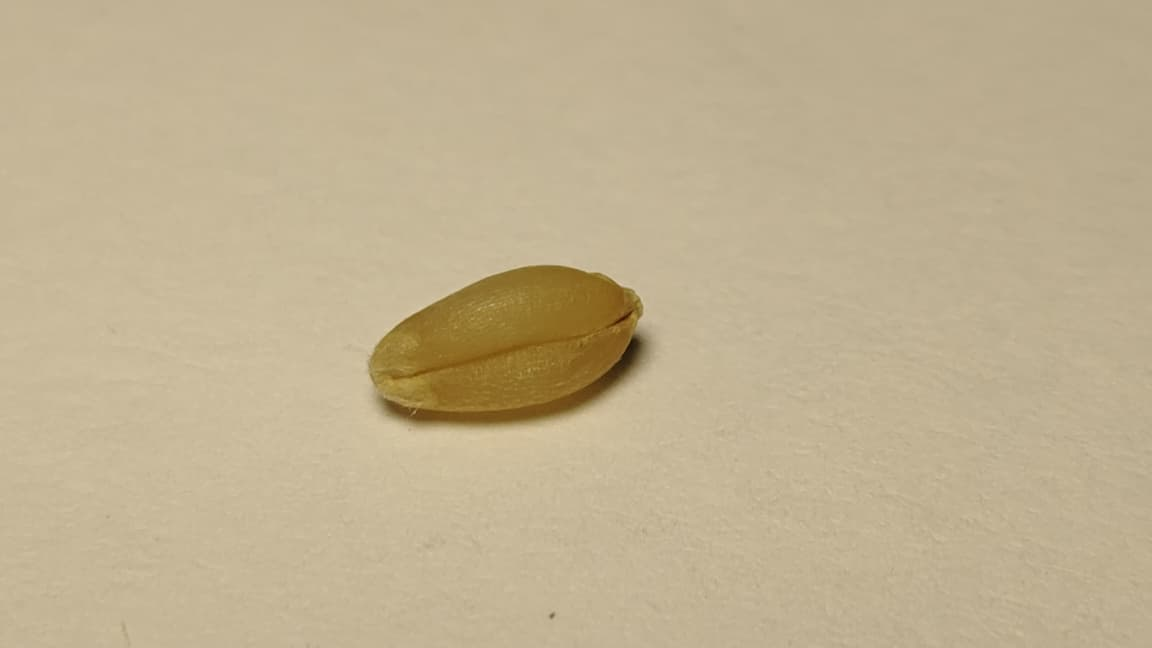healthy: (369, 265, 641, 411)
